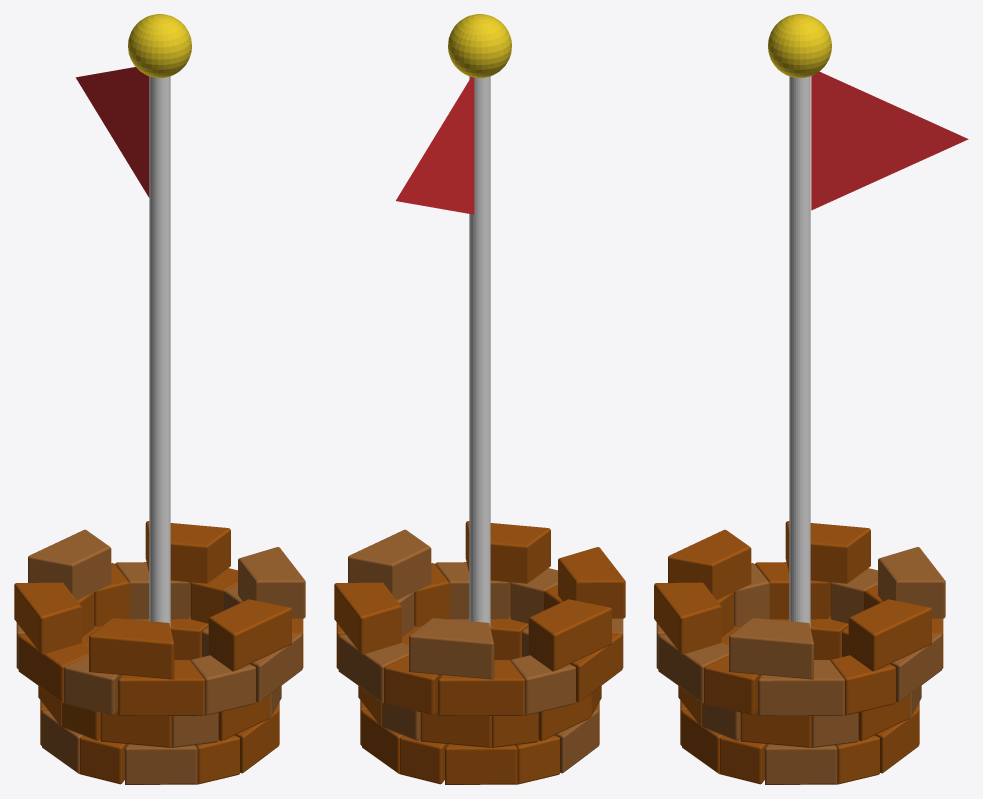
Rendered from Goal_Paul.fbx.
3 renders of one model, left to right at view 1: azimuth 30°, elevation 25°; view 2: azimuth 150°, elevation 25°; view 3: azimuth 270°, elevation 25°, orthographic.
Visible parts, largest first — view 1: 円柱; view 2: 円柱; view 3: 円柱.
Boxes of the visible parts, x1,y1,x2,y2 form: 円柱: [14, 14, 305, 784]; 円柱: [334, 14, 625, 784]; 円柱: [654, 14, 968, 784].
Bounding box in the file's own units: 1.49 × 4.06 × 1.61.
